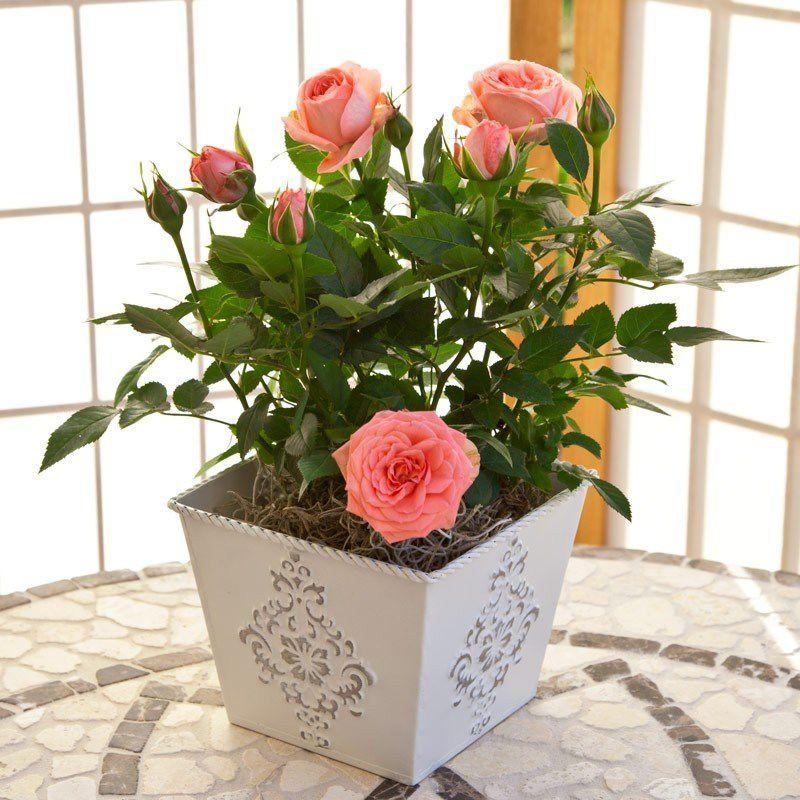Rose: (325, 401, 489, 554), (274, 54, 411, 200), (457, 42, 595, 169), (181, 119, 266, 232), (262, 176, 321, 259)
